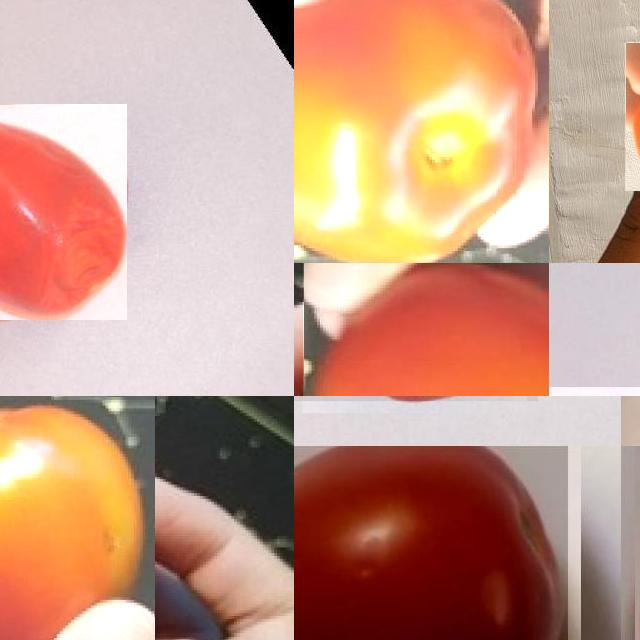0: (294, 0, 549, 263), (0, 396, 155, 640), (303, 263, 549, 396)
Fresh Tomato: (294, 446, 568, 640)
Rotten Tomato: (0, 104, 127, 320)
